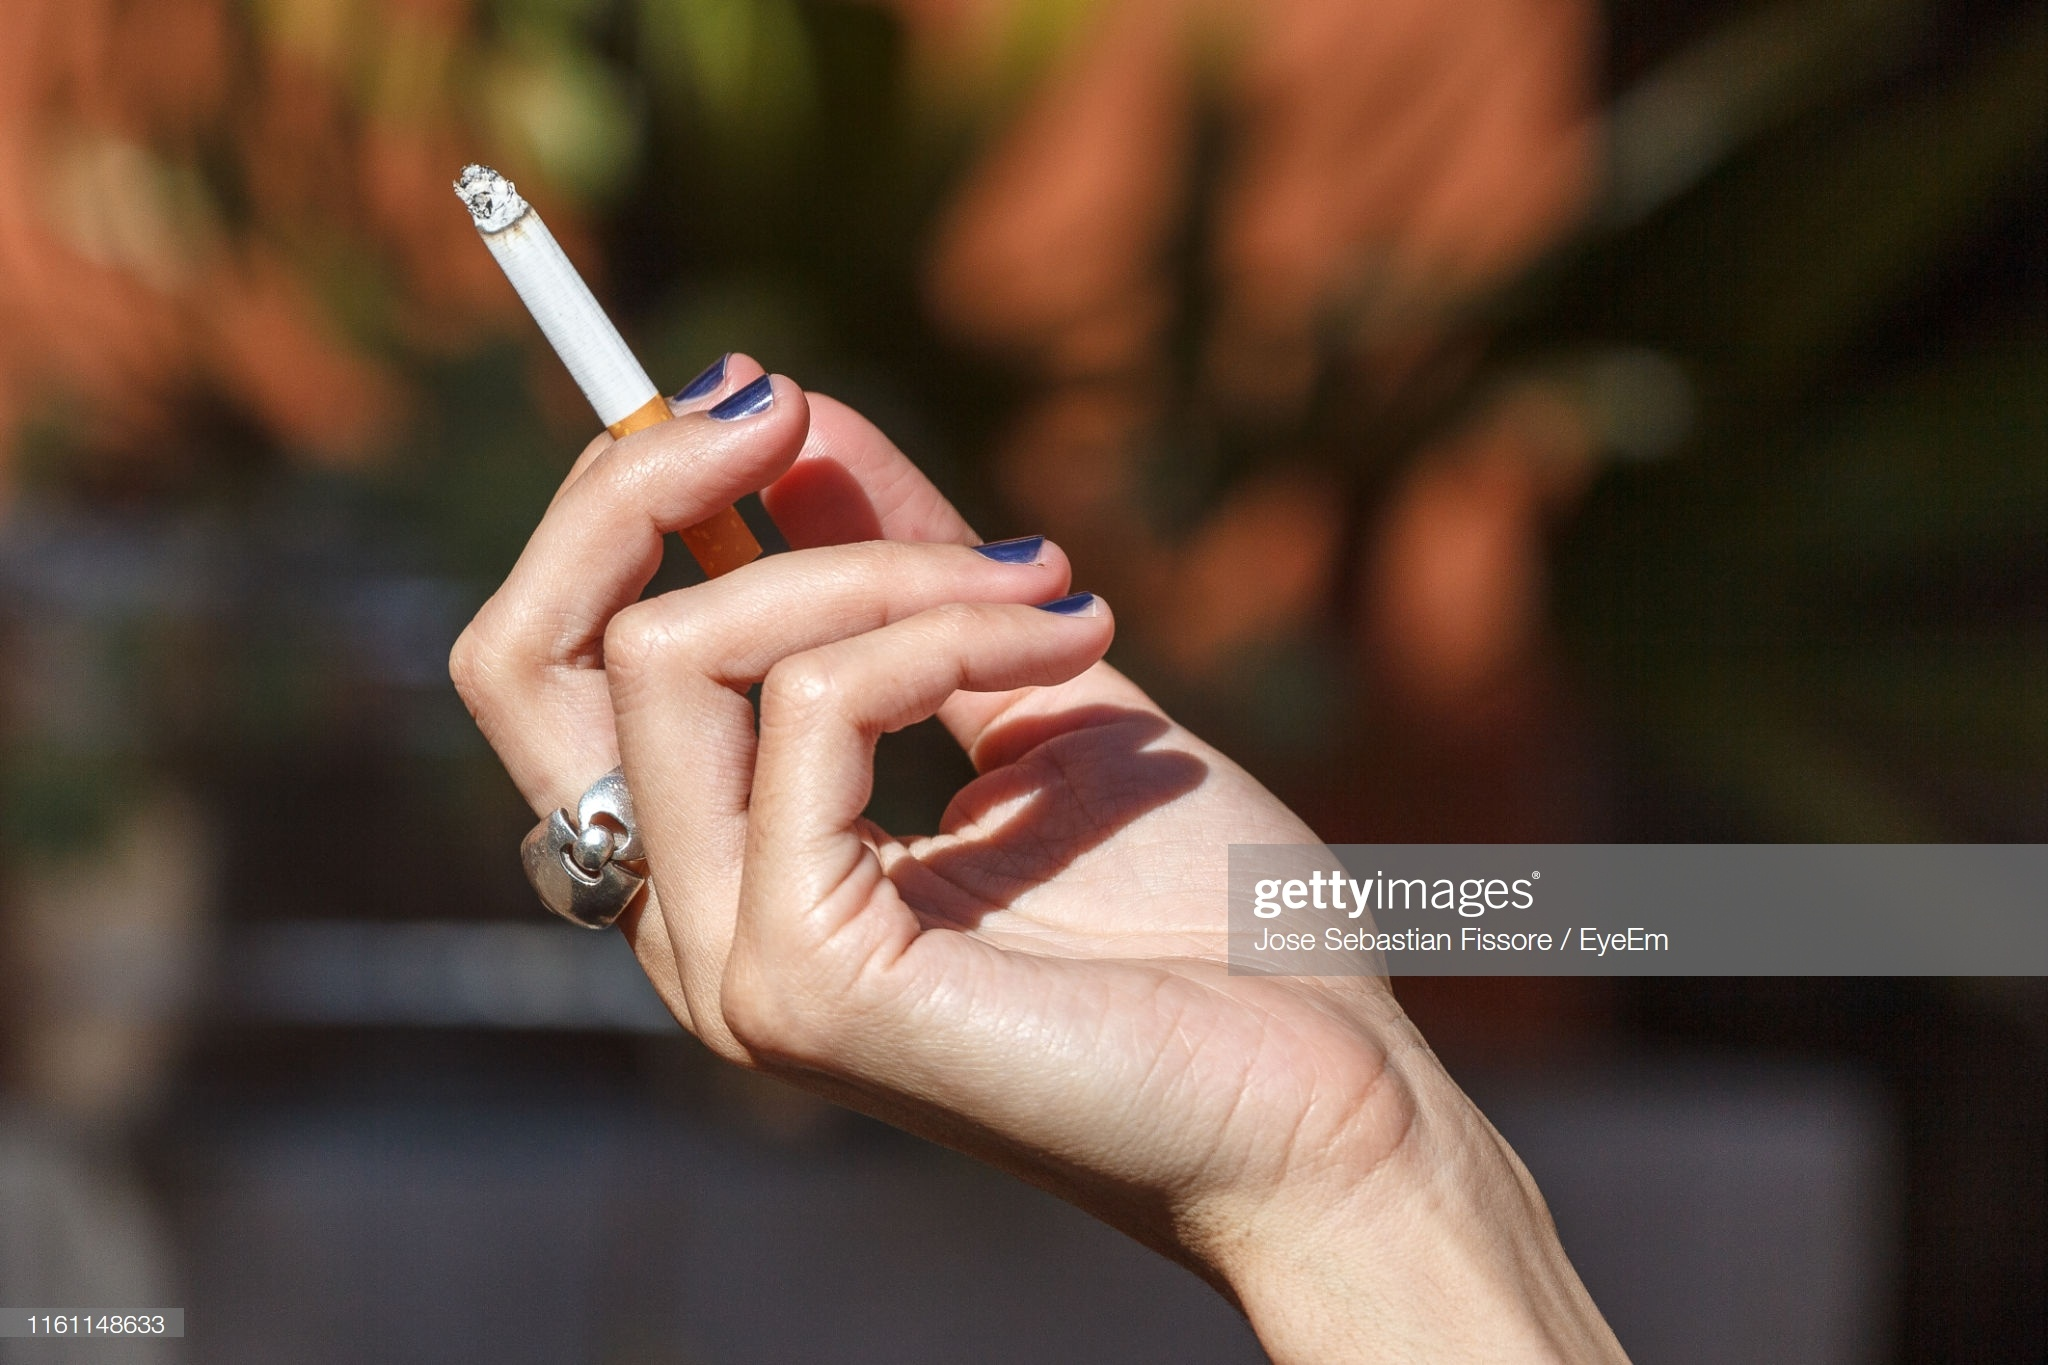sigaretta: (429, 126, 777, 580)
